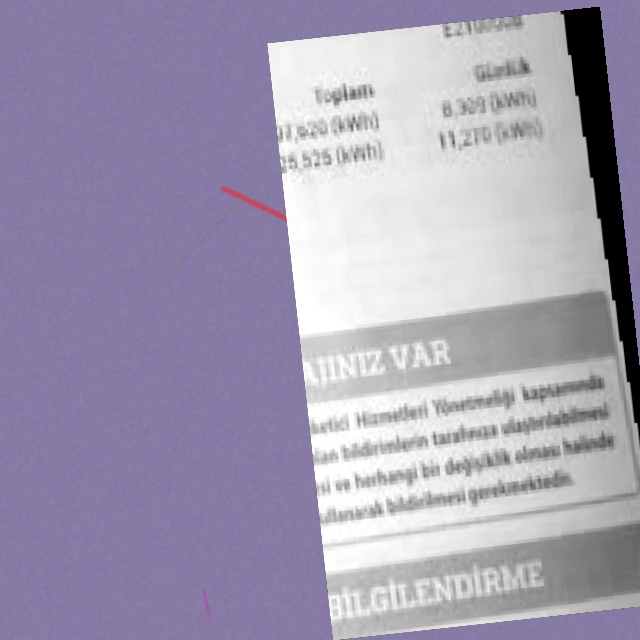electricity-bill: (266, 6, 639, 639)
